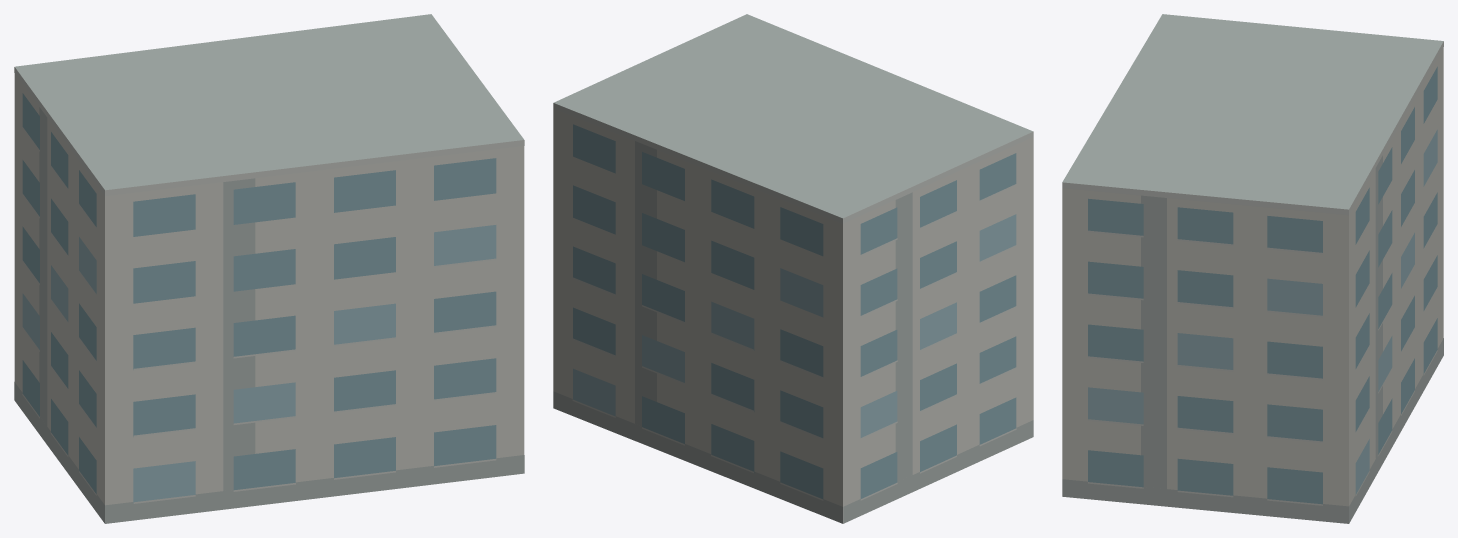
File: survey-upis-32934155.glb
3 views of the same model, side by side, from view 1: azimuth 30°, elevation 25°; view 2: azimuth 150°, elevation 25°; view 3: azimuth 270°, elevation 25° (orthographic). The views are drawn at different scales.
Parts seen in each view (by area): view 1: survey-upis-32934155.tmp; view 2: survey-upis-32934155.tmp; view 3: survey-upis-32934155.tmp.
Boxes of the visible parts, x1,y1,x2,y2 form: survey-upis-32934155.tmp: (14, 14, 524, 523); survey-upis-32934155.tmp: (553, 14, 1033, 523); survey-upis-32934155.tmp: (1062, 14, 1443, 523).
Size of the model in its own units: 17.89 by 13.4 by 14.76.
